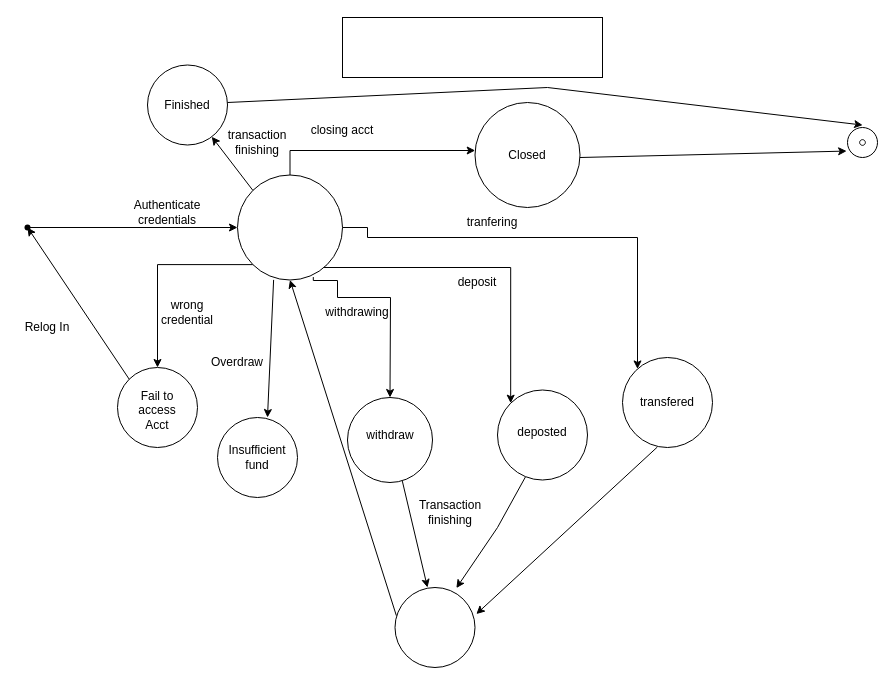
Image size: 895x685. Some labels were removed from this diagram. Each missing label, with the box of its shape:
Checking Account: (342, 16, 602, 78)
checking Acct: (236, 174, 342, 280)
Success: (394, 586, 475, 668)
